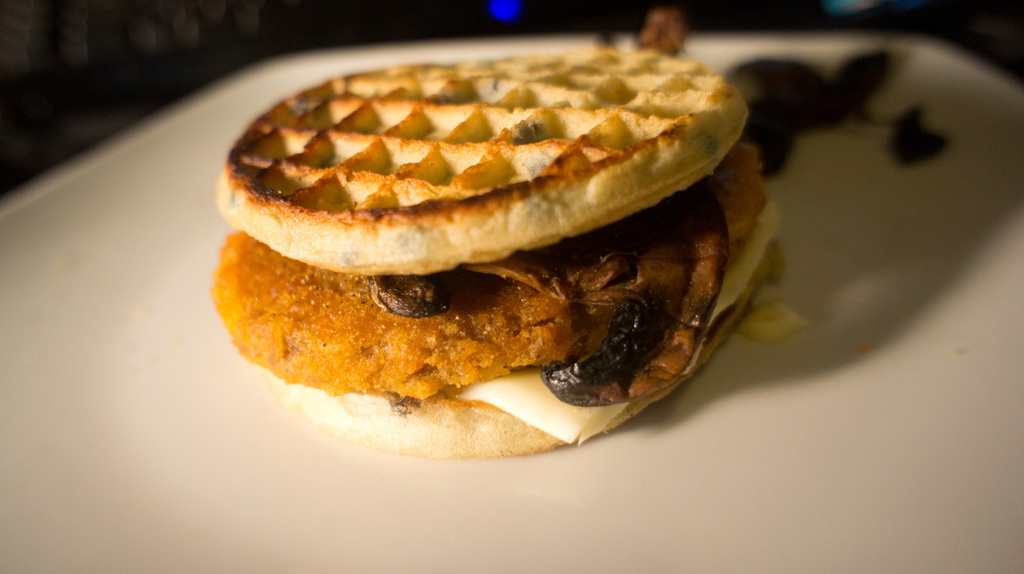Hamburger: (208, 53, 780, 460)
